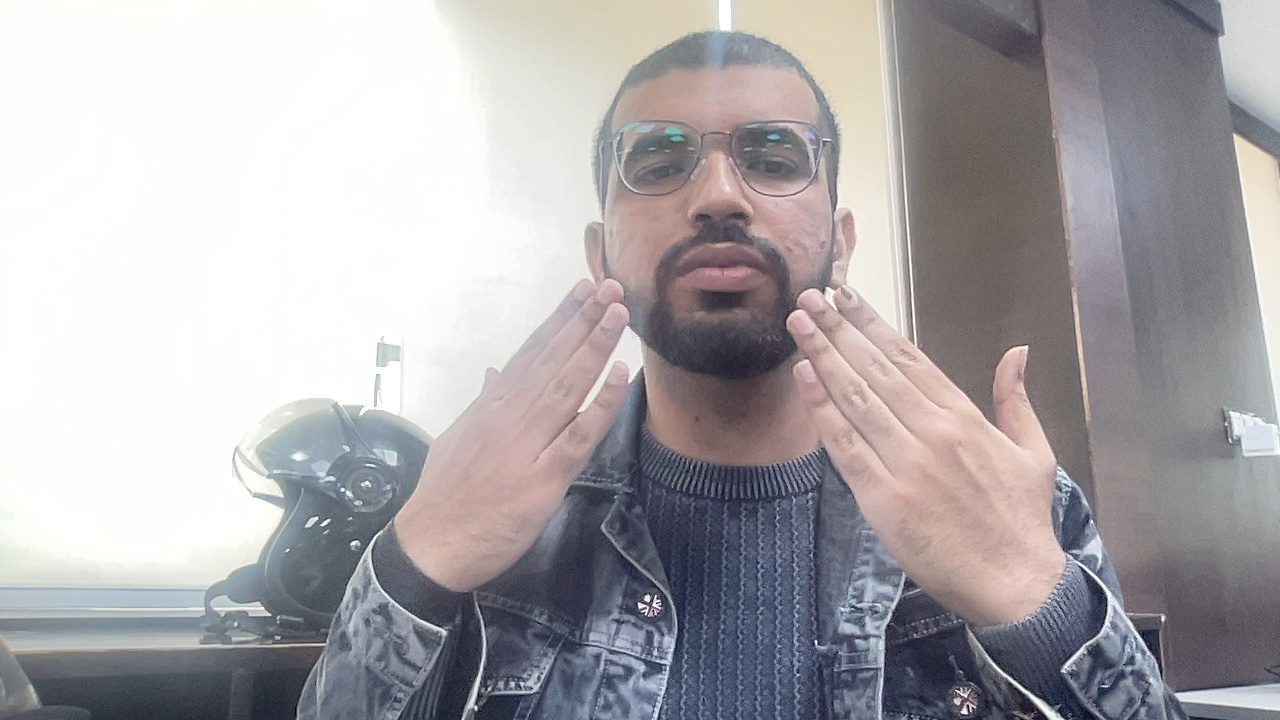Thank You: (278, 259, 1189, 610)
